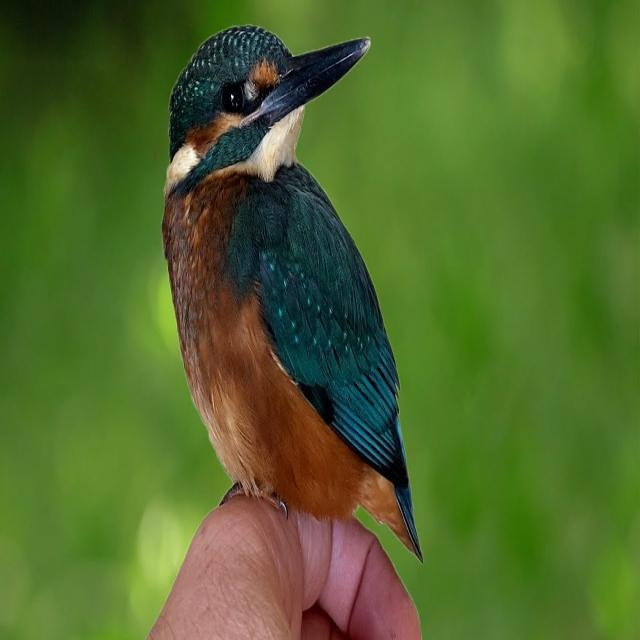kingfisher: (135, 26, 511, 564)
